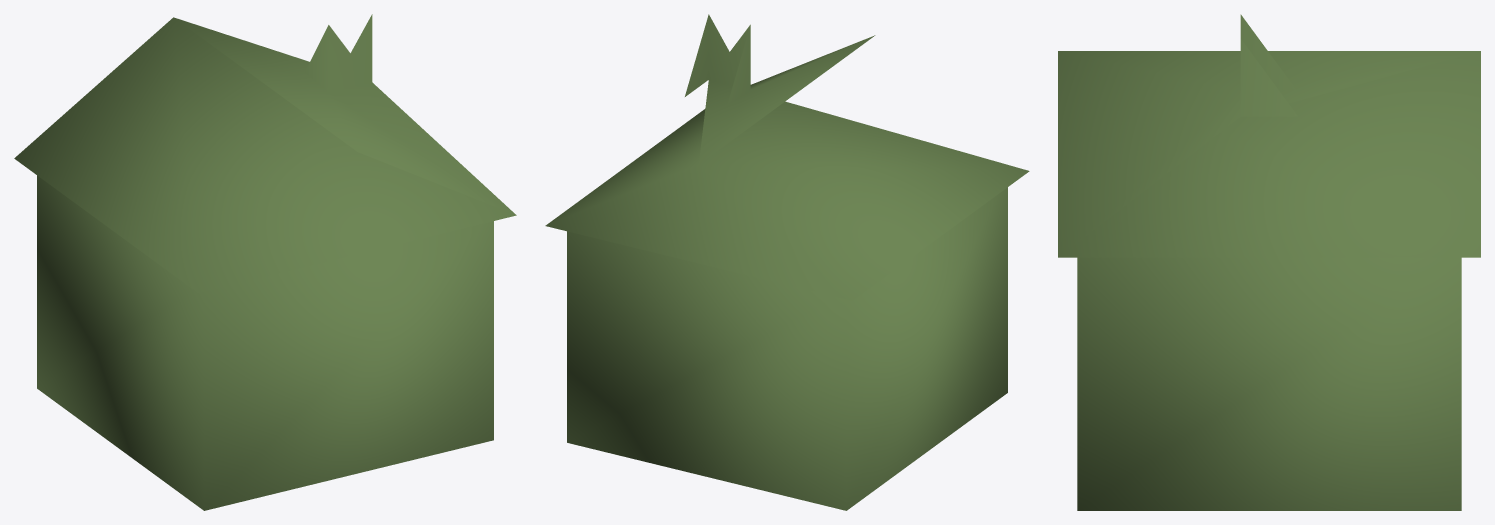
Rendered from vineyard.obj.
The picture shows the model from 3 angles, left to right: view 1: azimuth 30°, elevation 25°; view 2: azimuth 150°, elevation 25°; view 3: azimuth 270°, elevation 25°; orthographic projection. The views are drawn at different scales.
Parts seen in each view (by area): view 1: building; view 2: building; view 3: building.
Part boxes in pixels (x1,y1,x2,y2): building: [14, 14, 516, 510]; building: [545, 14, 1029, 510]; building: [1058, 14, 1480, 510].
Size of the model in its own units: 2.2 by 2.55 by 2.2.
